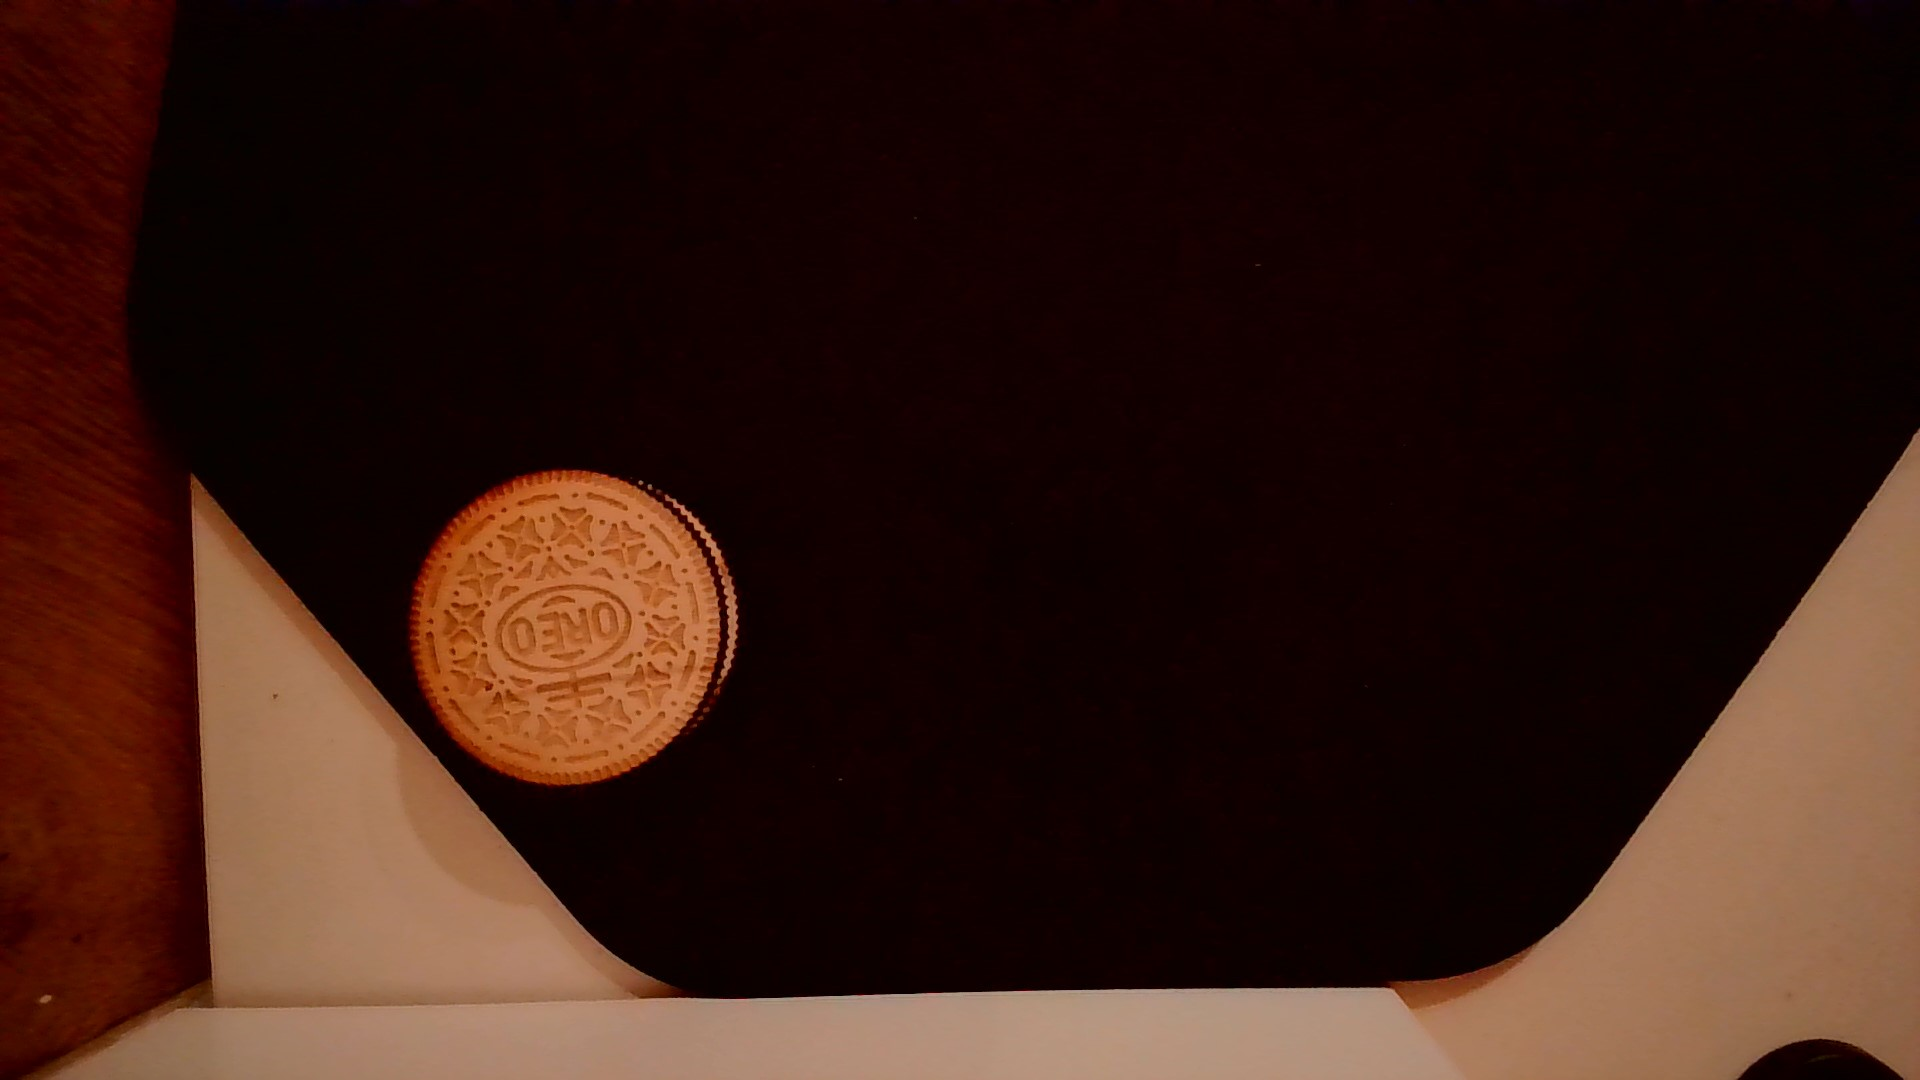Oréo: (401, 460, 752, 796)
